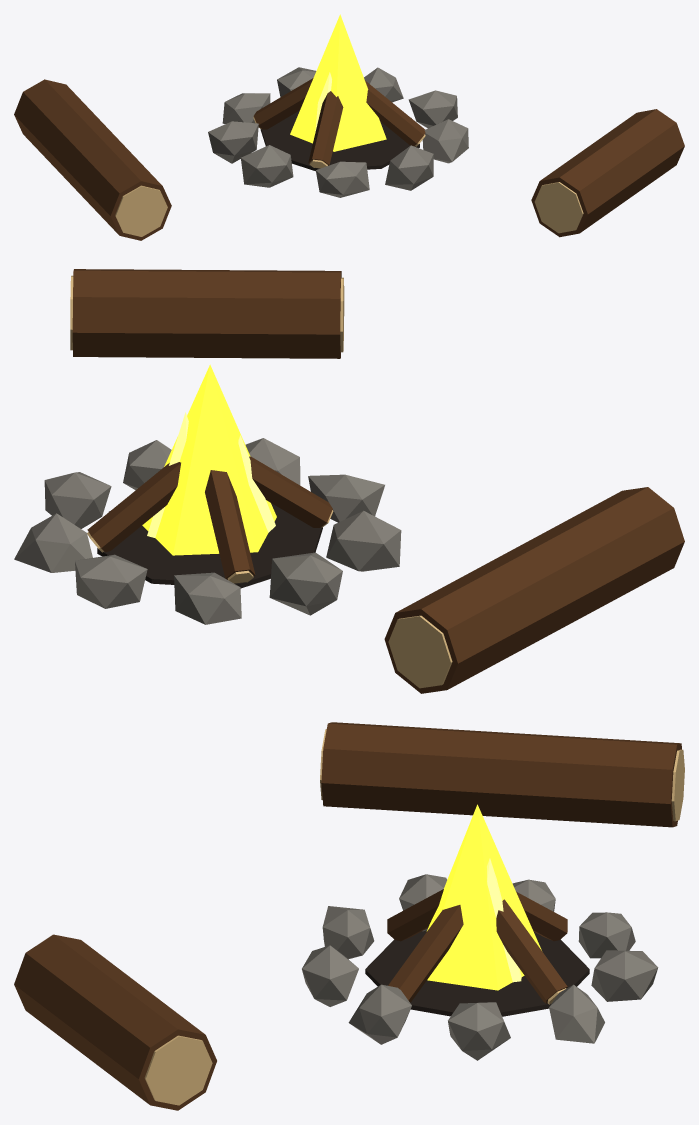
File: Camp_Campfire.fbx
3 views of the same model, one above another, from view 1: azimuth 30°, elevation 25°; view 2: azimuth 150°, elevation 25°; view 3: azimuth 270°, elevation 25° (orthographic). The views are drawn at different scales.
Visible parts, largest first — view 1: Camp_Campfire; view 2: Camp_Campfire; view 3: Camp_Campfire.
Part boxes in pixels (x1,y1,x2,y2): Camp_Campfire: (14, 14, 684, 240); Camp_Campfire: (14, 269, 684, 693); Camp_Campfire: (14, 722, 684, 1110).
Bounding box in the file's own units: 3.17 × 0.8556 × 2.69.
